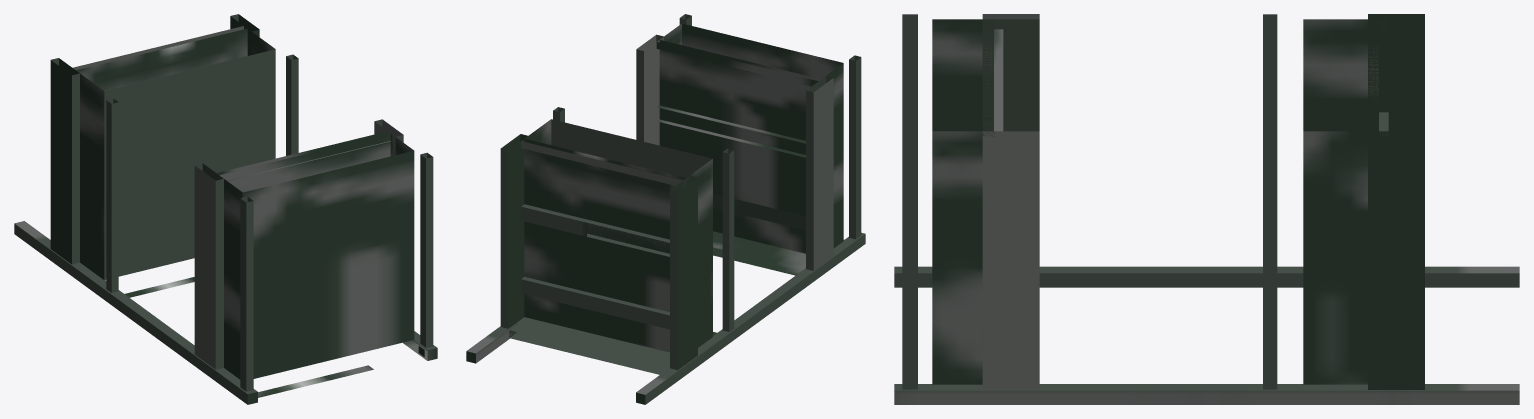
Rendered from section-1.obj.
3 views of the same model, side by side, from view 1: azimuth 30°, elevation 25°; view 2: azimuth 150°, elevation 25°; view 3: azimuth 270°, elevation 25° (orthographic). The views are drawn at different scales.
Size of the model in its own units: 0.93 by 0.935 by 1.98.
